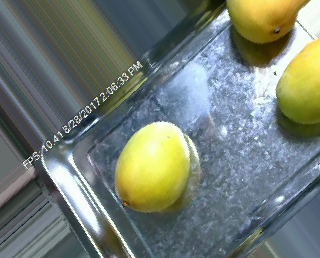Mango: (113, 121, 190, 211), (275, 37, 320, 124), (226, 0, 294, 42)
